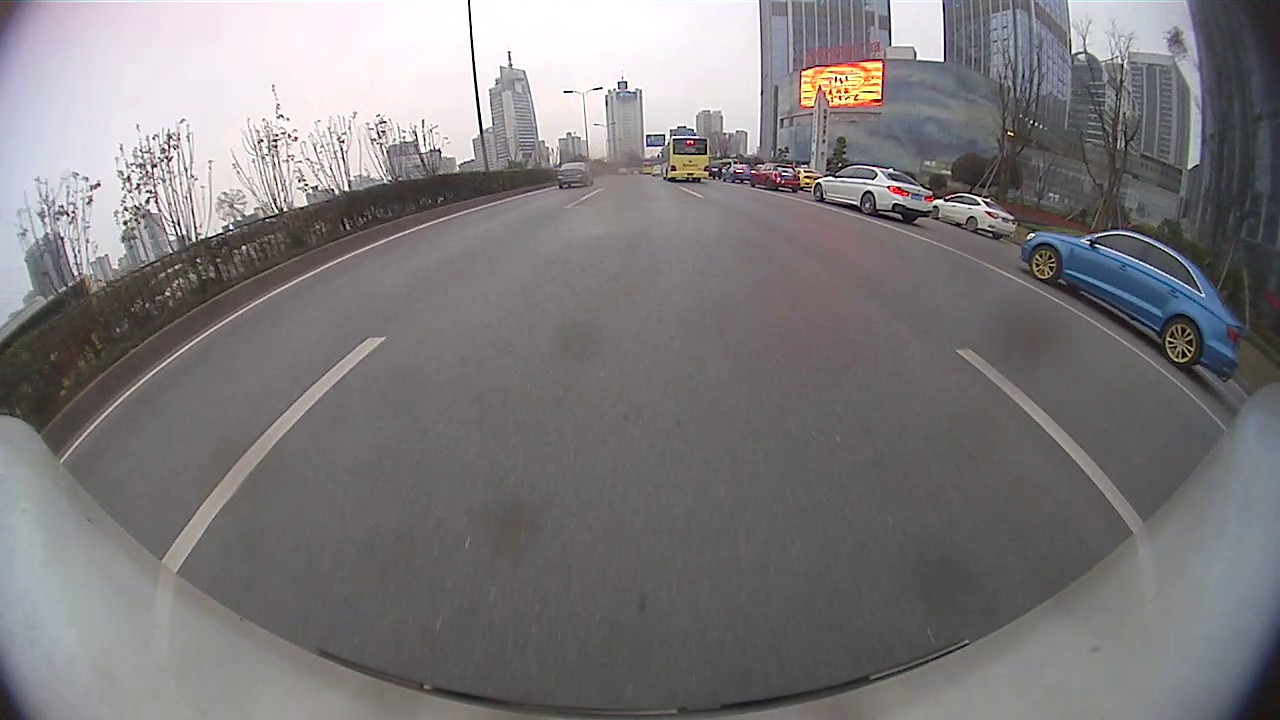bus: (657, 133, 712, 184)
car: (1016, 222, 1252, 384), (809, 162, 937, 225), (930, 190, 1021, 241), (748, 159, 803, 194), (554, 158, 595, 189), (719, 160, 753, 185)
front: (1030, 244, 1062, 283), (814, 184, 824, 203)
rear: (1163, 318, 1201, 369), (860, 193, 877, 216), (967, 218, 978, 233)
